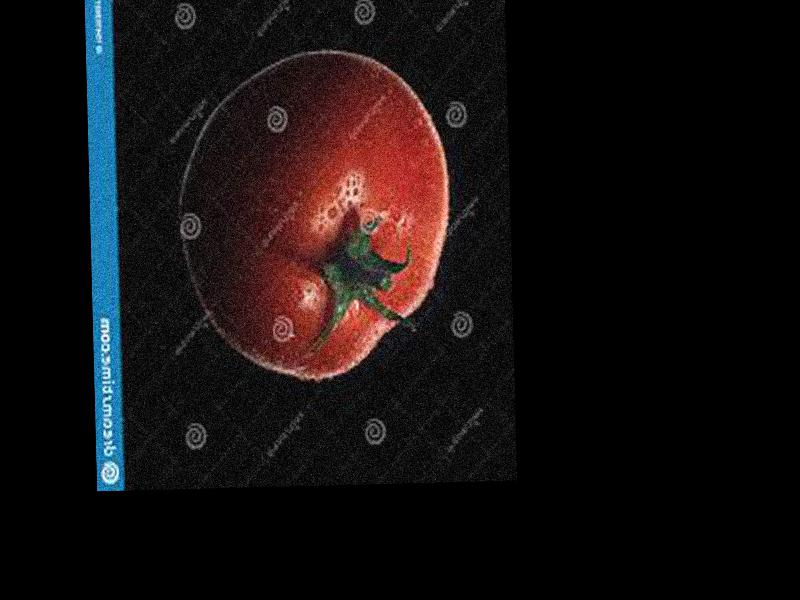Tomato: (177, 45, 454, 383)
